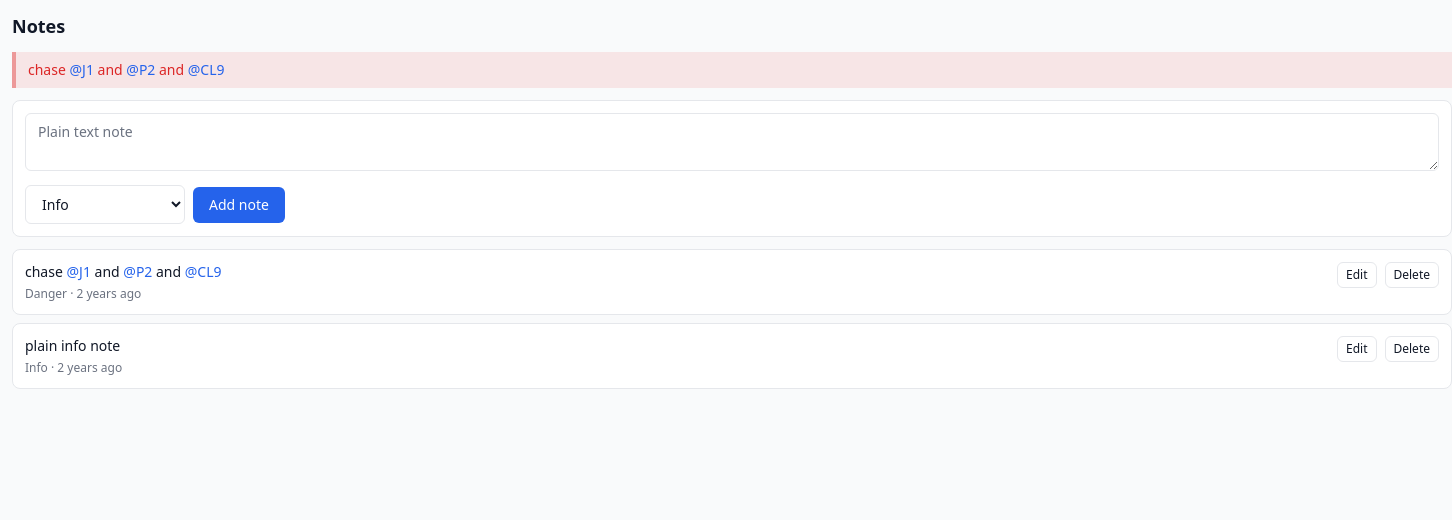
Test: NotesSection › adds a note with the chosen severity
In the text box with placeholder "Plain text note": x=732, y=142 25,113 -> 1439,171, type "brand new note"
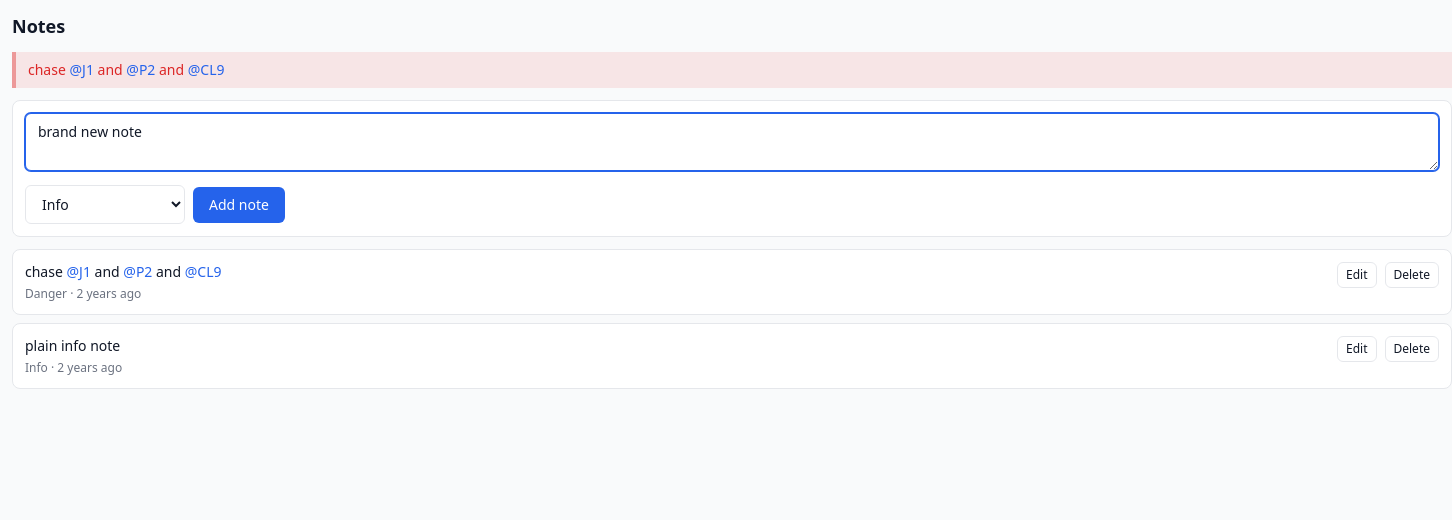
Select "Warning" in the dropdown named "Severity": x=105, y=204 25,185 -> 185,224
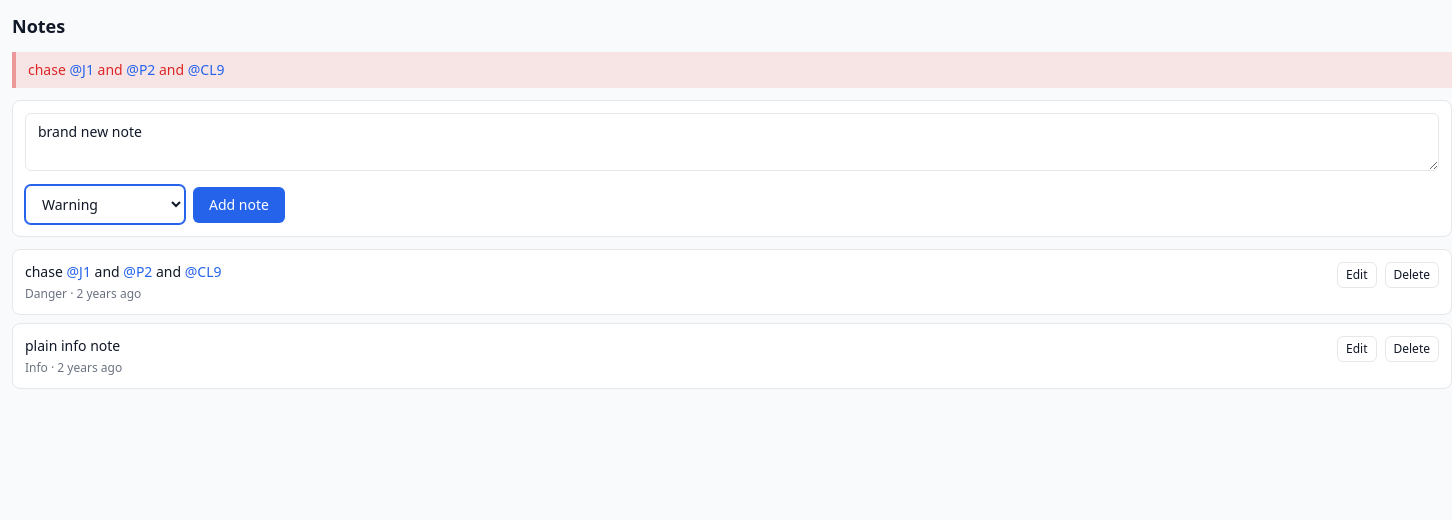
Click the button with test id "client-note-add": x=239, y=204 193,186 -> 285,222
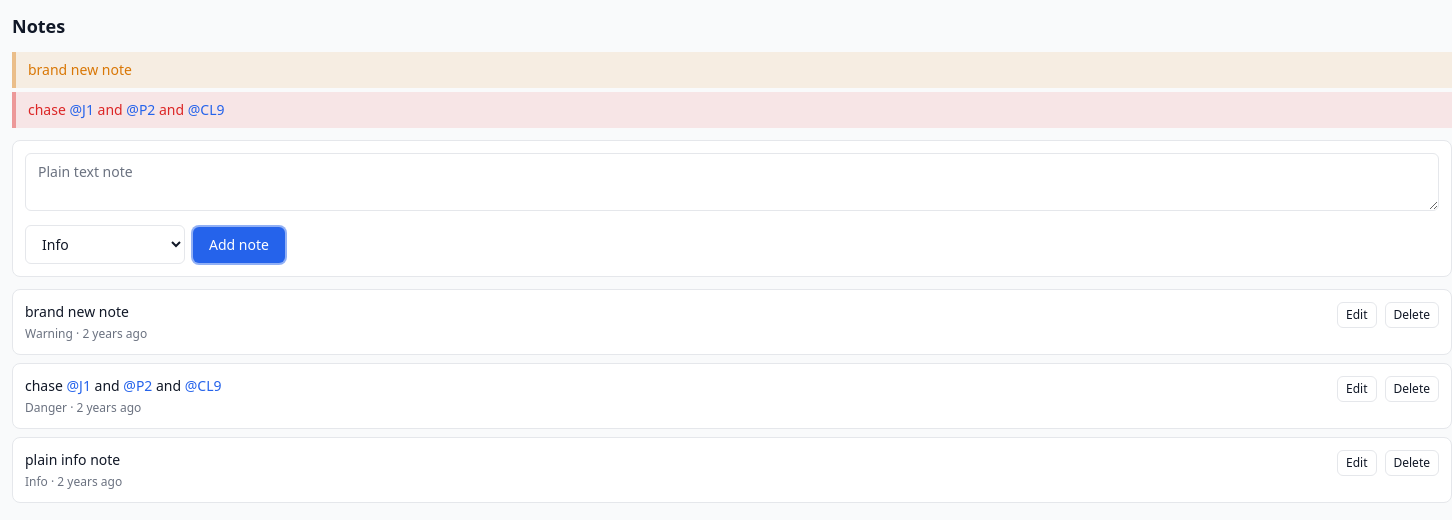
Now the list item with test id "client-note-row-CN5" shows "brand new note", box 25,302 -> 129,321
Now the text box with placeholder "Plain text note" is empty, box 25,153 -> 1439,211
